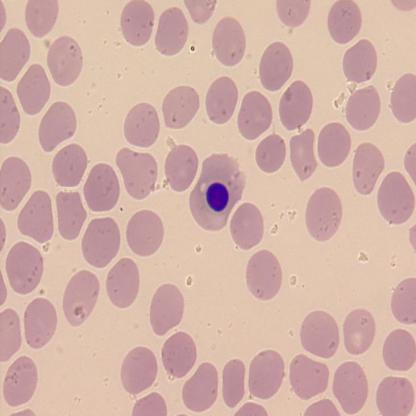NRC: (204, 178, 230, 214)
